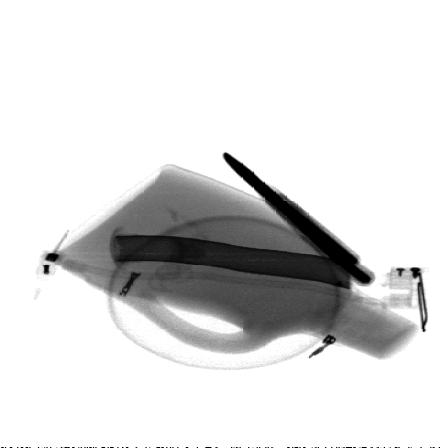Pliers: (221, 151, 377, 288)
